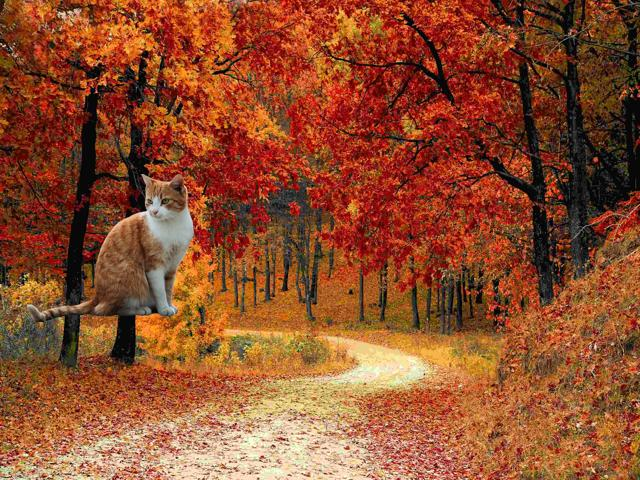cat: (29, 176, 194, 320)
